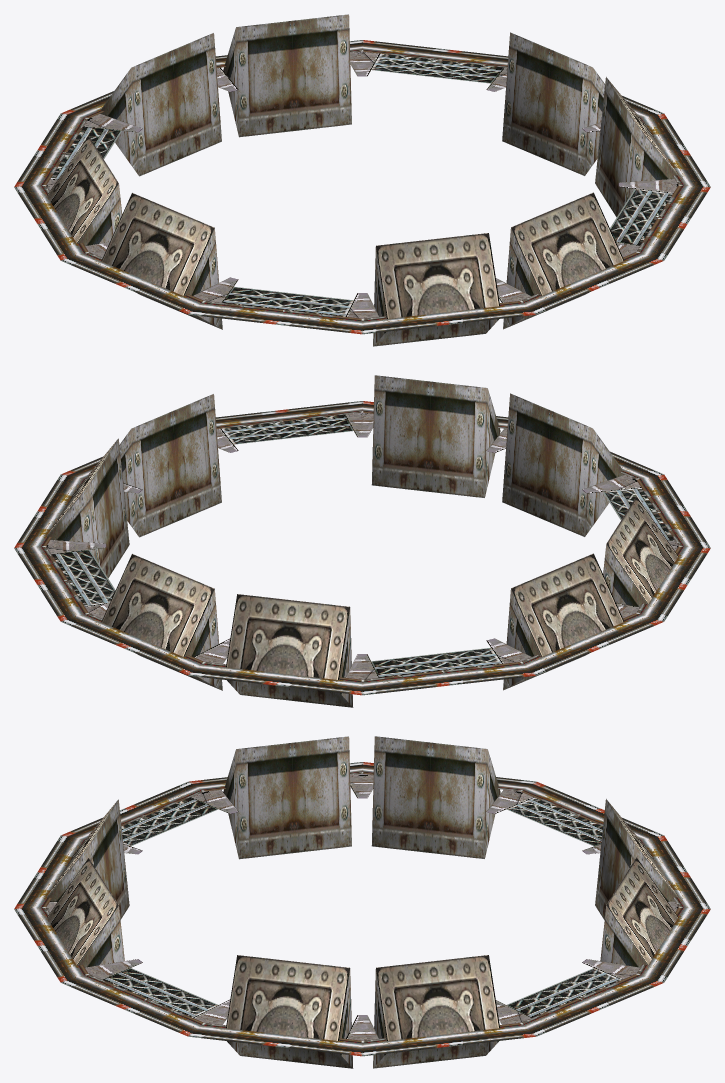
The model's file is RocketBase.obj.
3 renders of one model, top to bottom at view 1: azimuth 30°, elevation 25°; view 2: azimuth 150°, elevation 25°; view 3: azimuth 270°, elevation 25°, orthographic.
Visible parts, largest first — view 1: RocketBase; view 2: RocketBase; view 3: RocketBase.
Boxes of the visible parts, box(x1,y1,x2,y2) form: RocketBase: box(14, 14, 710, 346); RocketBase: box(14, 375, 710, 707); RocketBase: box(14, 736, 710, 1068).
Bounding box in the file's own units: 186 × 31.1 × 186.
5 materials, 5 textured.
